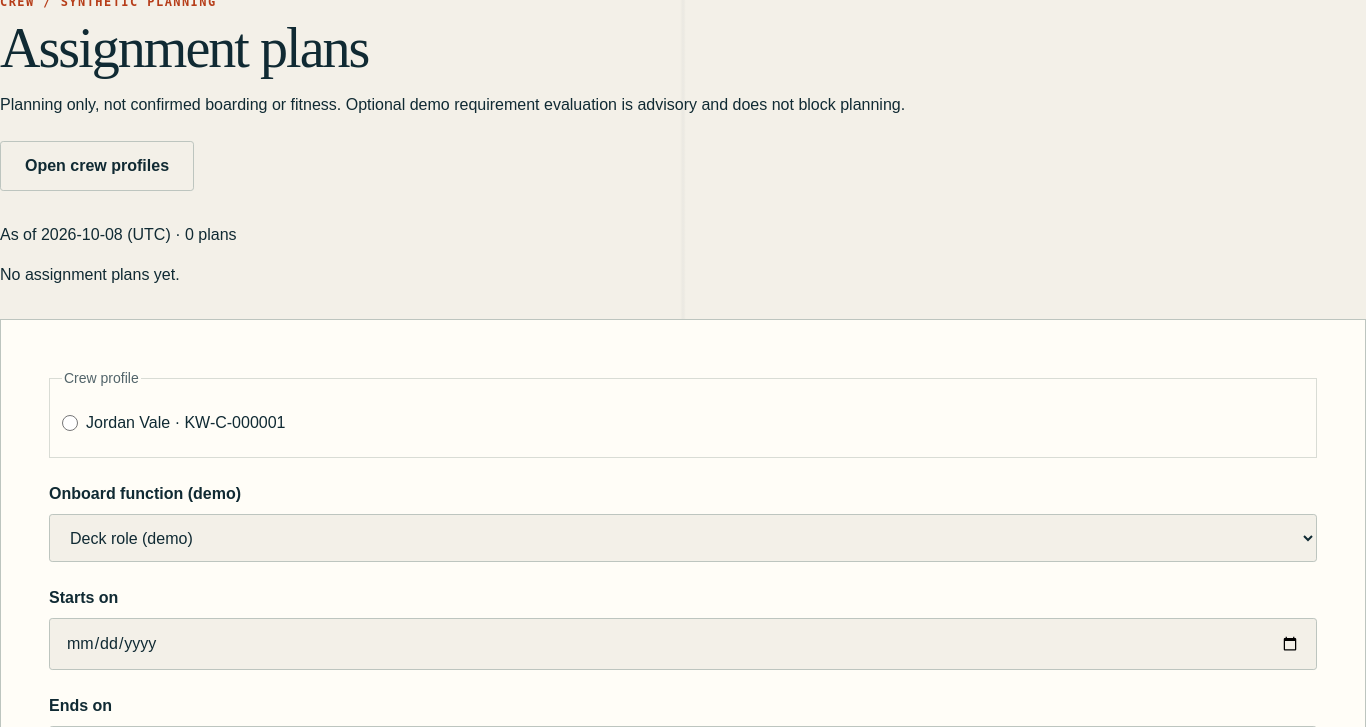
Test: Vessel assignment plans › selects an existing synthetic profile and records a plan with visible demo limits
(page scrolled)
Expected: the text "No assignment plans yet." is shown, [0,266,180,284]
Click the radio button labelled "Jordan Vale · KW-C-000001" at (70, 424), box [62,416,78,432]
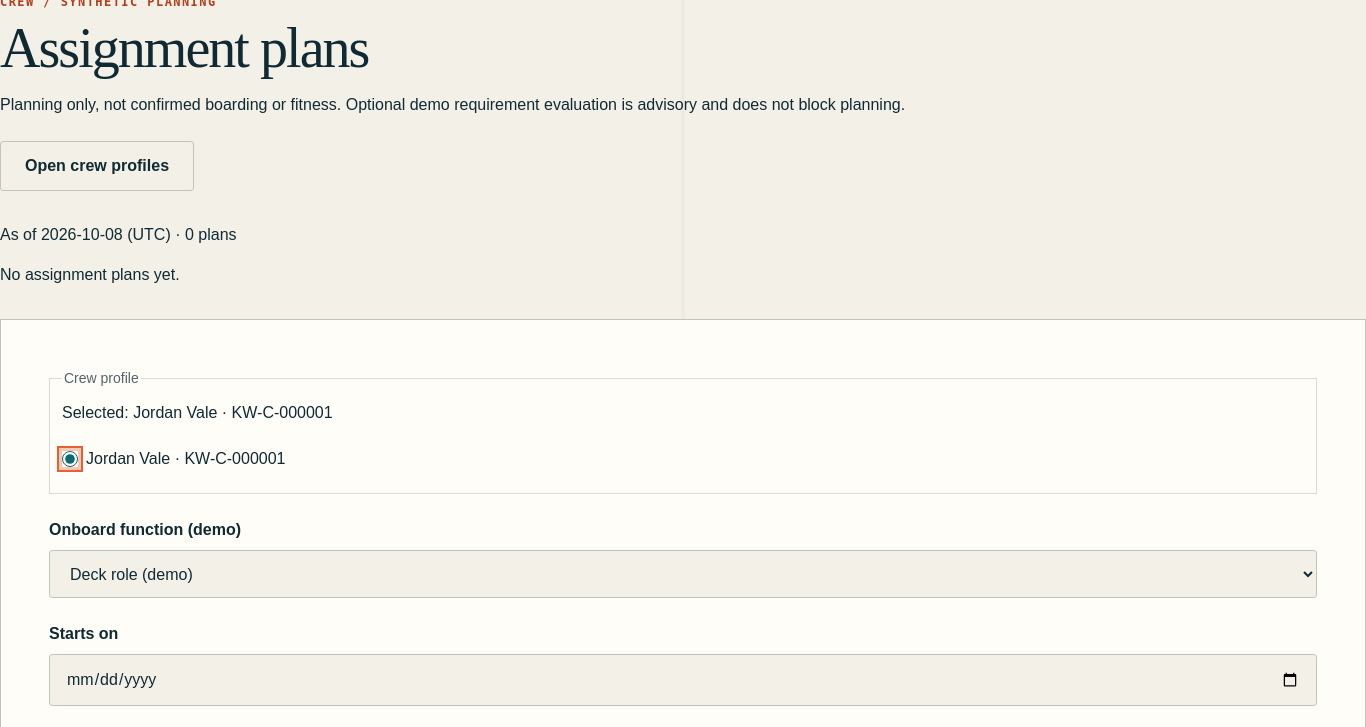
Type "2040-02-01" into the date field labelled "Starts on" at (683, 680), box [49,654,1317,706]
(page scrolled)
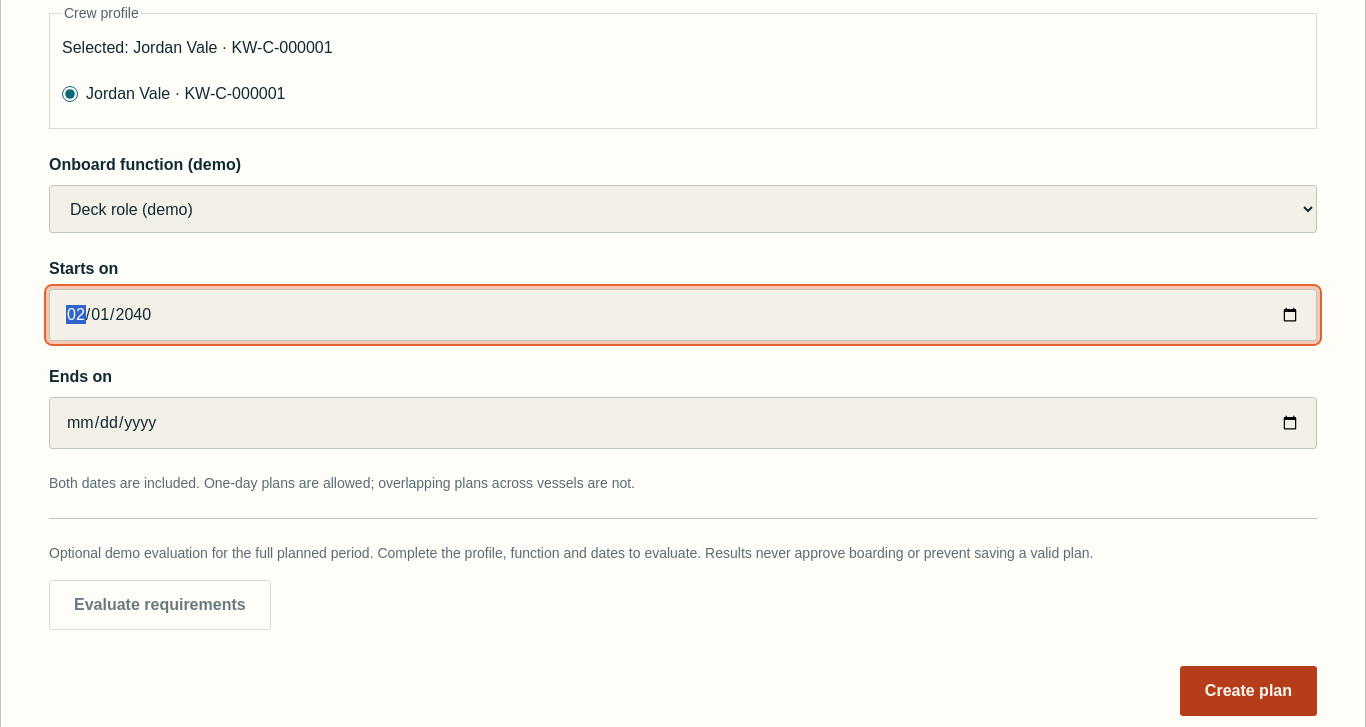
Type "2040-02-02" into the date field labelled "Ends on" at (683, 424), box [49,398,1317,450]
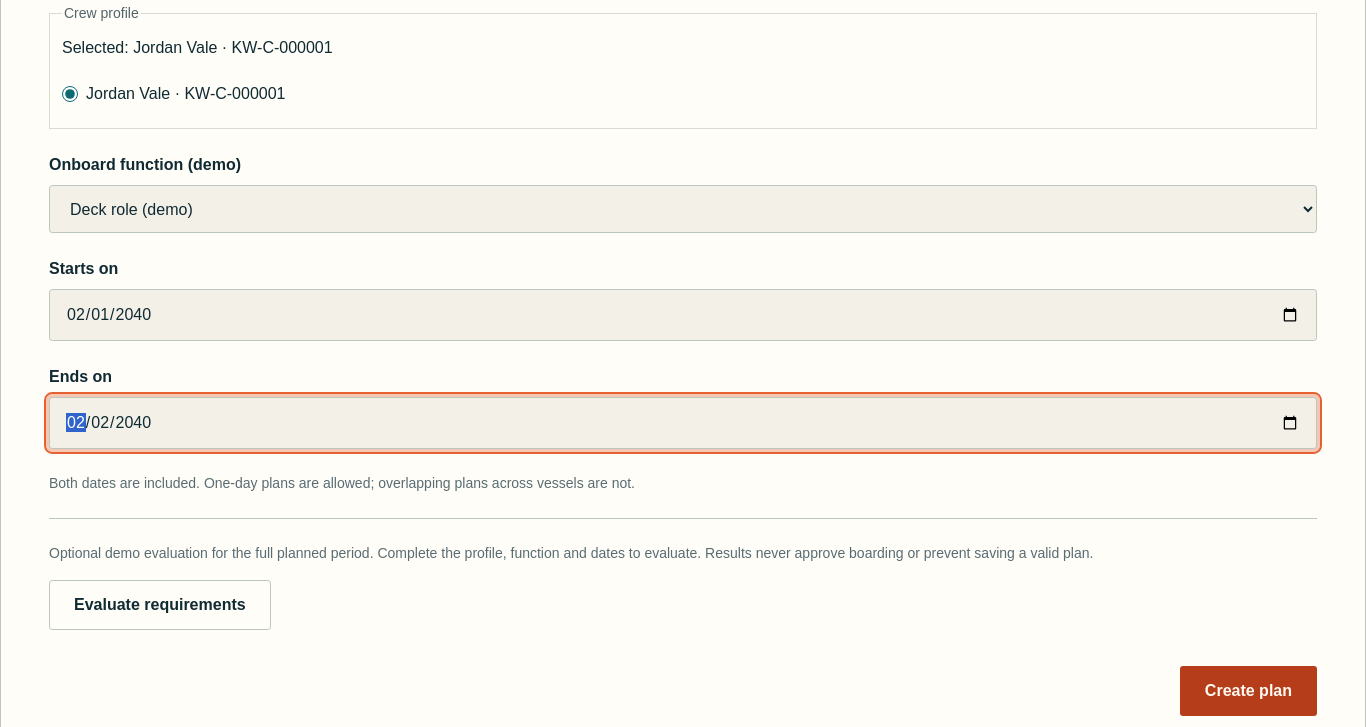
Click the button "Create plan" at (1248, 692), box [1180,666,1317,716]
(page scrolled)
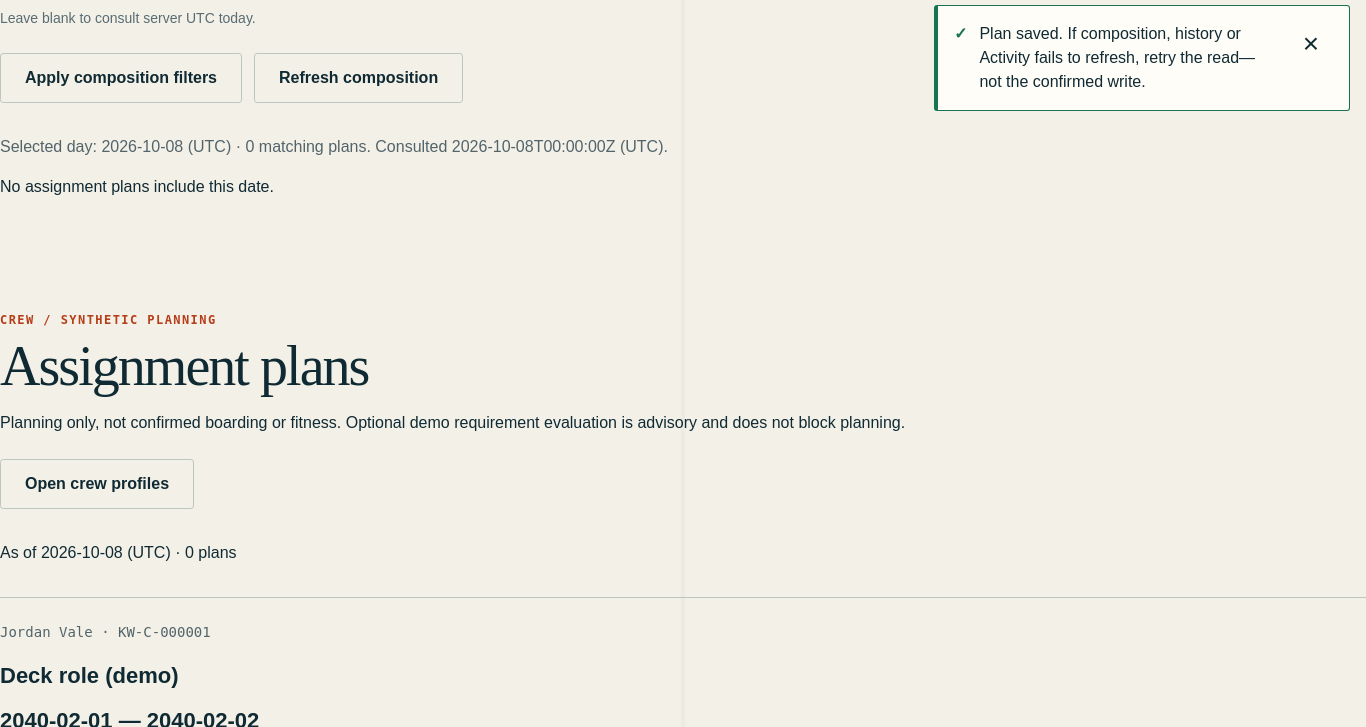
Expected: the text "evaluation is advisory" is shown, [0,414,905,432]
Expected: the text "Plan saved" is shown, [979,25,1063,42]
